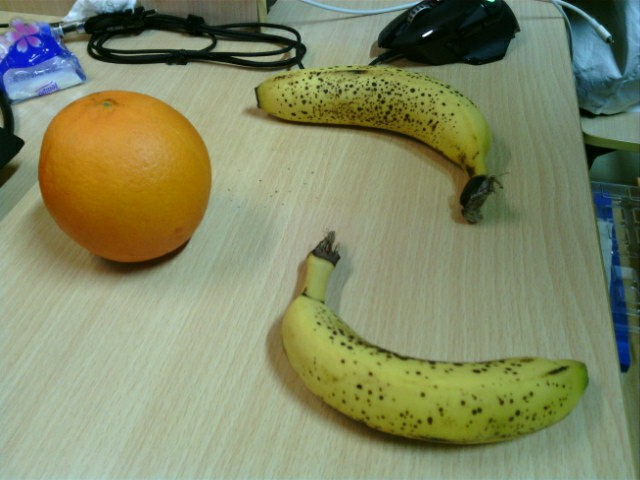normal_banana: (281, 231, 592, 444), (254, 64, 502, 226)
normal_orange: (40, 90, 212, 261)
